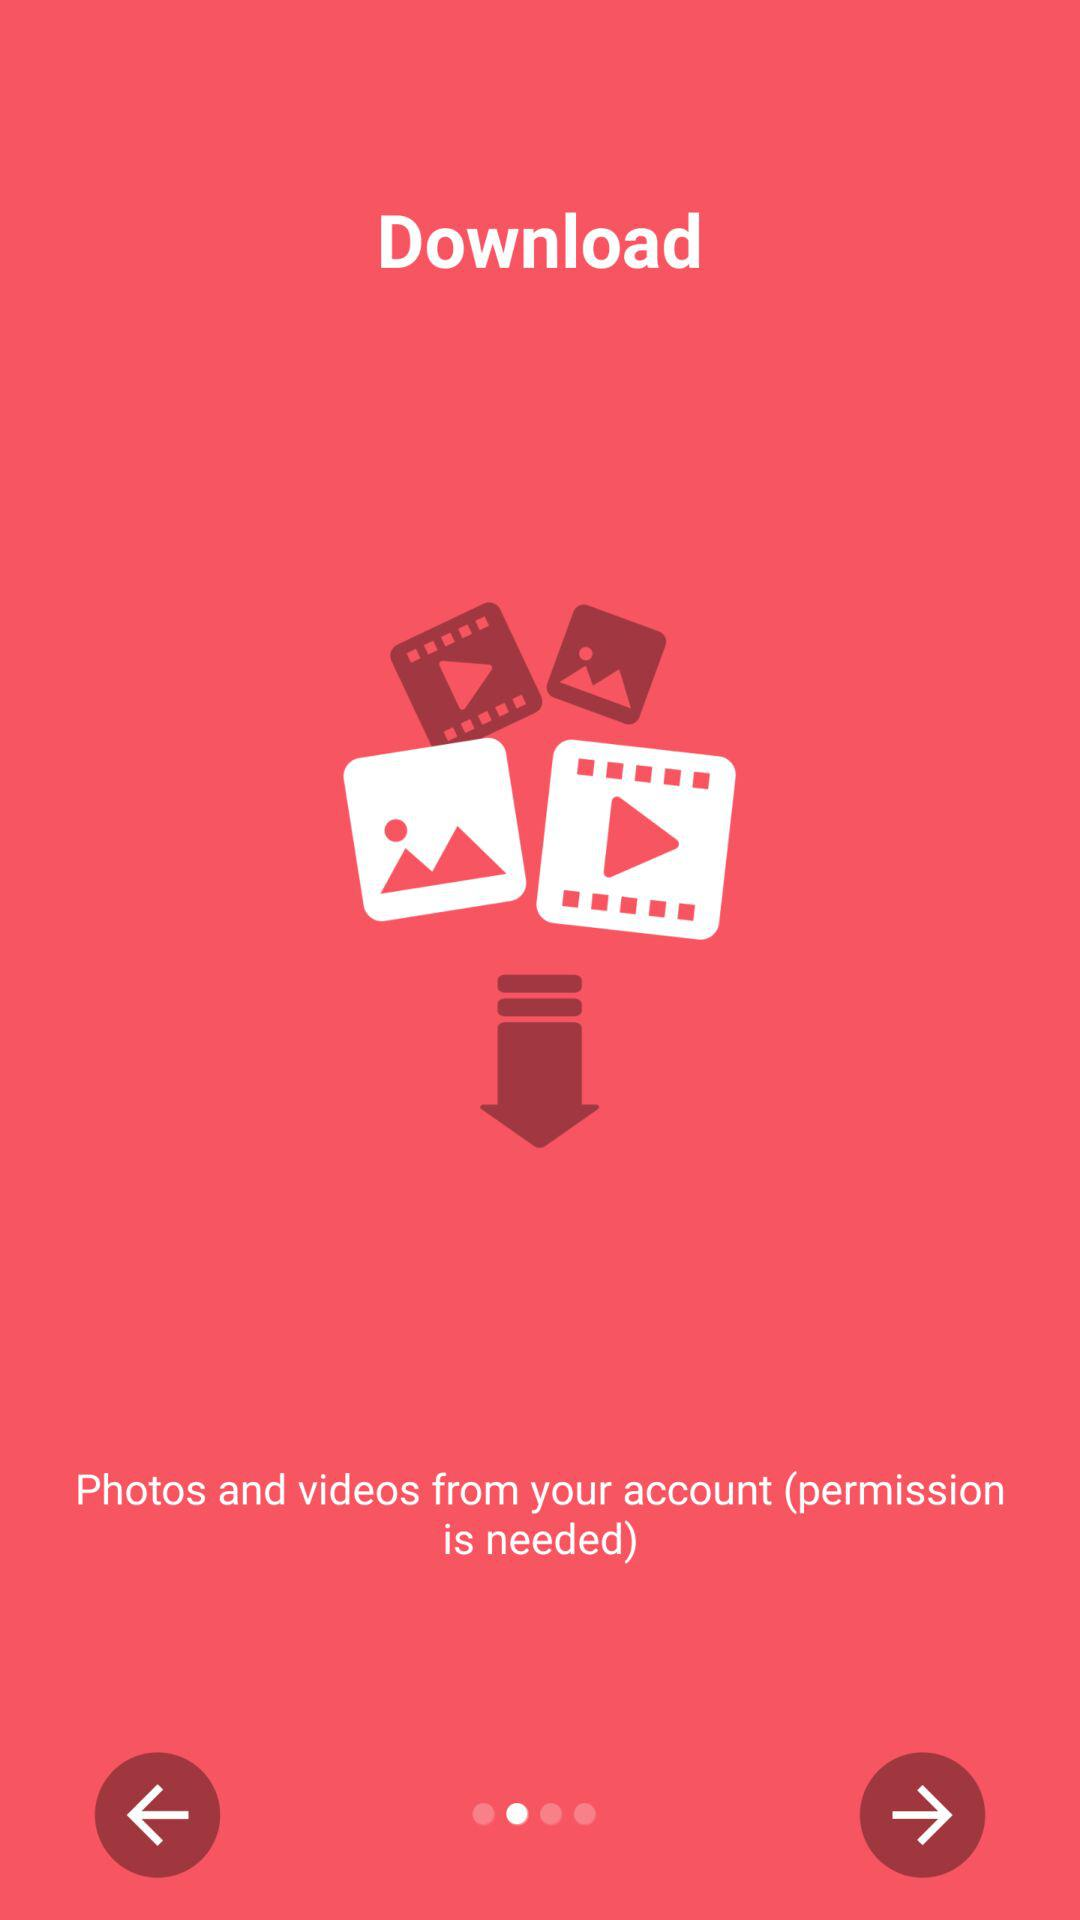Icon: (95, 1751, 222, 1879), (858, 1753, 986, 1878)
Image: (343, 603, 737, 1150)
PageIndicator: (471, 1801, 597, 1828)
Text: (78, 1470, 1005, 1567), (380, 211, 702, 272)
